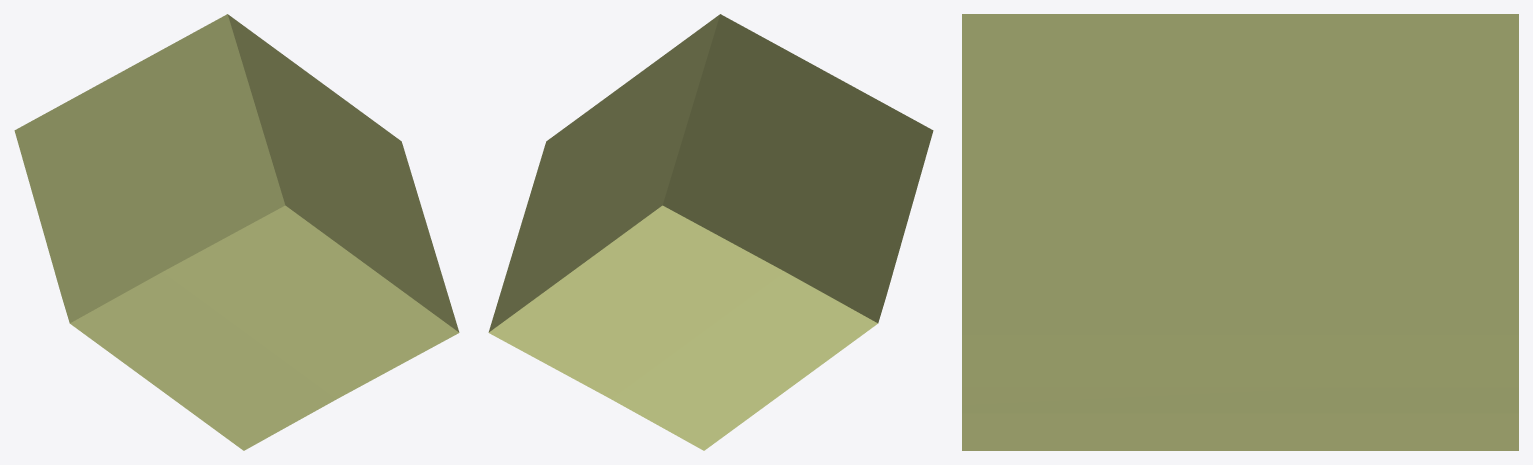
3 views of the same model, side by side, from view 1: azimuth 30°, elevation 25°; view 2: azimuth 150°, elevation 25°; view 3: azimuth 270°, elevation 25° (orthographic). The views are drawn at different scales.
Parts seen in each view (by area): view 1: 0_1_2_0_3_3_0_2_3_2_1; view 2: 0_1_2_0_3_3_0_2_3_2_1; view 3: 0_1_2_0_3_3_0_2_3_2_1.
Boxes of the visible parts, x1,y1,x2,y2 form: 0_1_2_0_3_3_0_2_3_2_1: [14, 14, 459, 450]; 0_1_2_0_3_3_0_2_3_2_1: [488, 14, 933, 450]; 0_1_2_0_3_3_0_2_3_2_1: [962, 14, 1518, 450].
Bounding box in the file's own units: 8.08 × 7.73 × 9.
